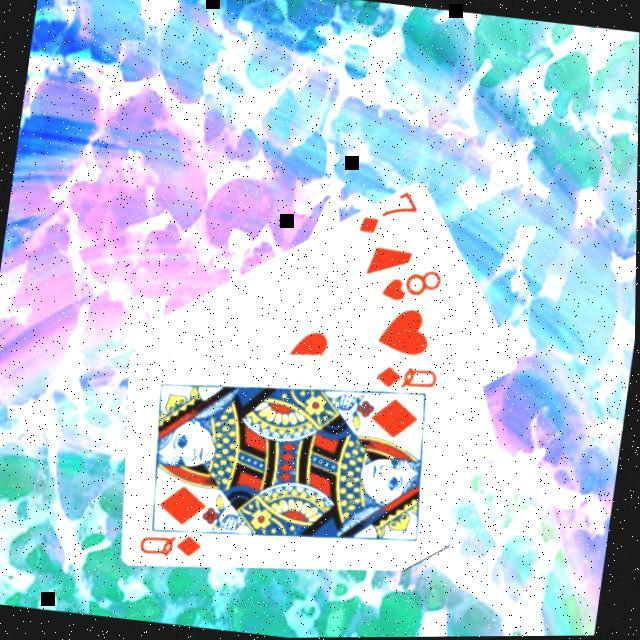7D: (356, 186, 426, 244)
8H: (378, 261, 450, 311)
QD: (138, 527, 209, 565), (374, 361, 444, 399)
